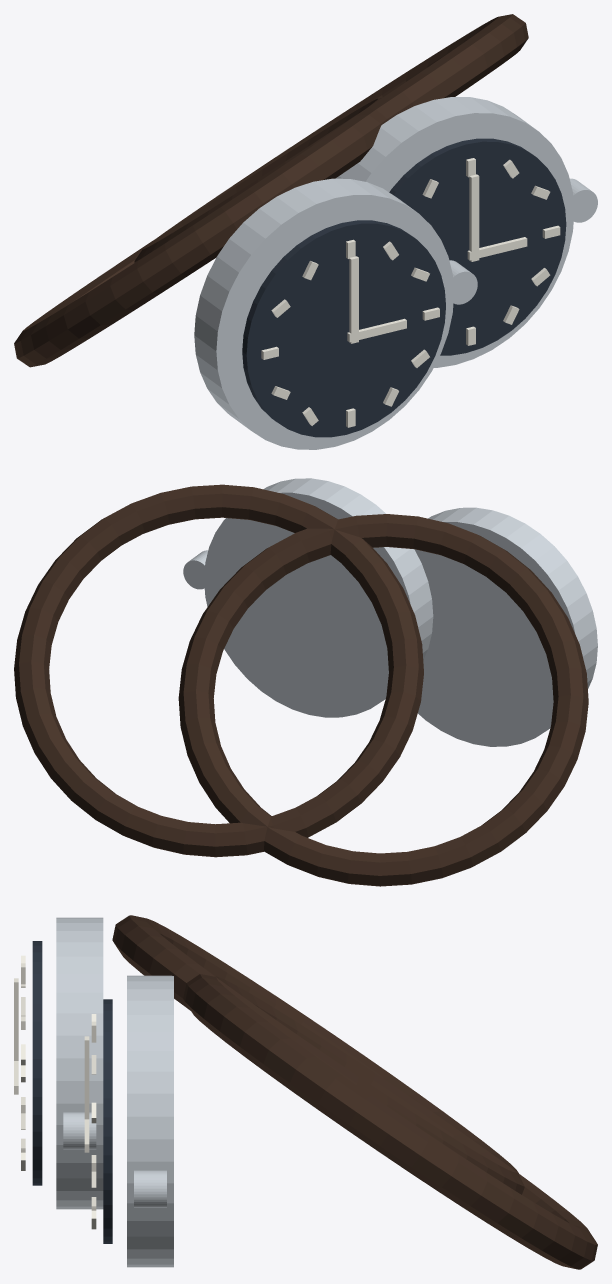
File: watch-silver.glb
3 renders of one model, top to bottom at view 1: azimuth 30°, elevation 25°; view 2: azimuth 150°, elevation 25°; view 3: azimuth 270°, elevation 25°, orthographic. The views are drawn at different scales.
Parts seen in each view (by area): view 1: Dial.001, Case.001, Dial, Wrist band.001, Case, Wrist band, Minute hand, Minute hand.001, Crown.001, Crown, Hour hand, Hour hand.001; view 2: Wrist band.001, Wrist band, Case, Case.001, Crown; view 3: Wrist band, Case, Case.001, Wrist band.001, Dial.001, Dial, Crown, Crown.001, Minute hand.
Boxes of the visible parts, x1,y1,x2,y2 form: Dial.001: (242, 220, 445, 437); Case.001: (194, 178, 454, 449); Dial: (389, 138, 566, 355); Wrist band.001: (14, 98, 387, 367); Case: (335, 97, 574, 367); Wrist band: (134, 14, 528, 262); Minute hand: (469, 174, 479, 261); Minute hand.001: (349, 256, 358, 343); Crown.001: (449, 260, 477, 304); Crown: (570, 178, 597, 222); Hour hand: (467, 237, 527, 260); Hour hand.001: (347, 318, 406, 342); Wrist band.001: (178, 514, 588, 886); Wrist band: (14, 484, 423, 857); Case: (204, 478, 433, 717); Case.001: (414, 507, 597, 746); Crown: (183, 550, 208, 589); Wrist band: (183, 974, 597, 1269); Case: (127, 975, 173, 1267); Case.001: (56, 917, 103, 1209); Wrist band.001: (112, 915, 524, 1194); Dial.001: (32, 941, 42, 1185); Dial: (103, 999, 112, 1243); Crown: (134, 1170, 166, 1207); Crown.001: (63, 1112, 96, 1149); Minute hand: (84, 1036, 89, 1119).
Bounding box in the file's own units: 0.1397 × 0.0755 × 0.1241.
